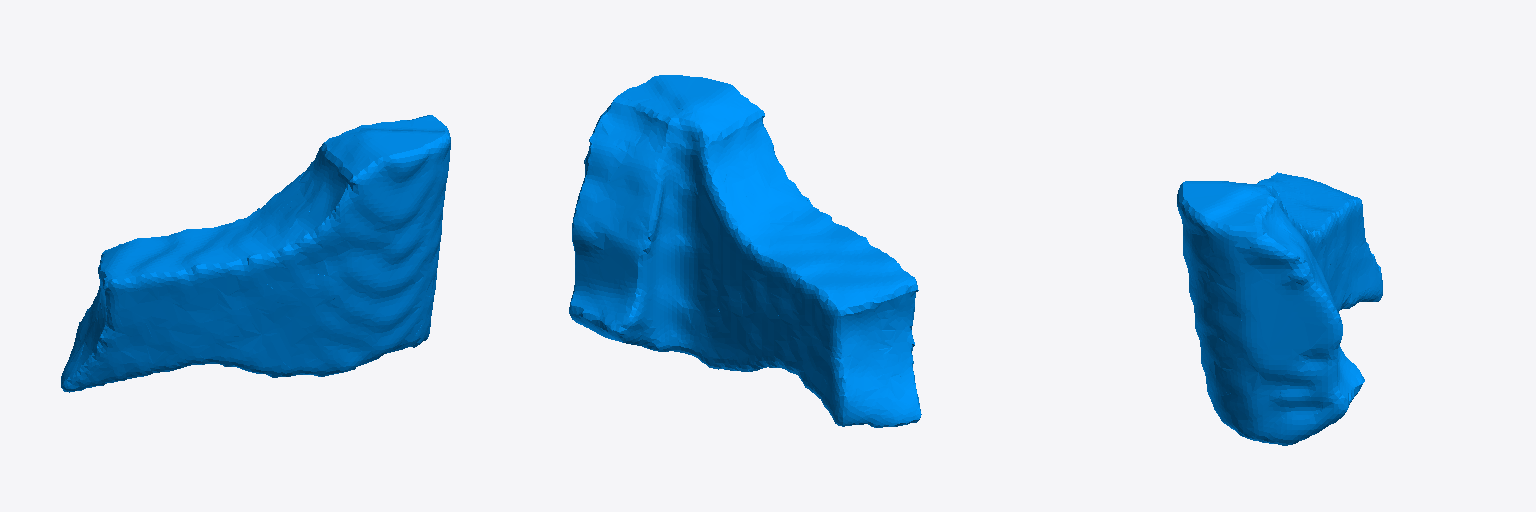
The model's file is Model_10149_LH__Visual_area_6_(dorsomedial_area)_(V6).obj.
3 views of the same model, side by side, from view 1: azimuth 30°, elevation 25°; view 2: azimuth 150°, elevation 25°; view 3: azimuth 270°, elevation 25° (orthographic).
Size of the model in its own units: 6.78 by 4.31 by 3.49.